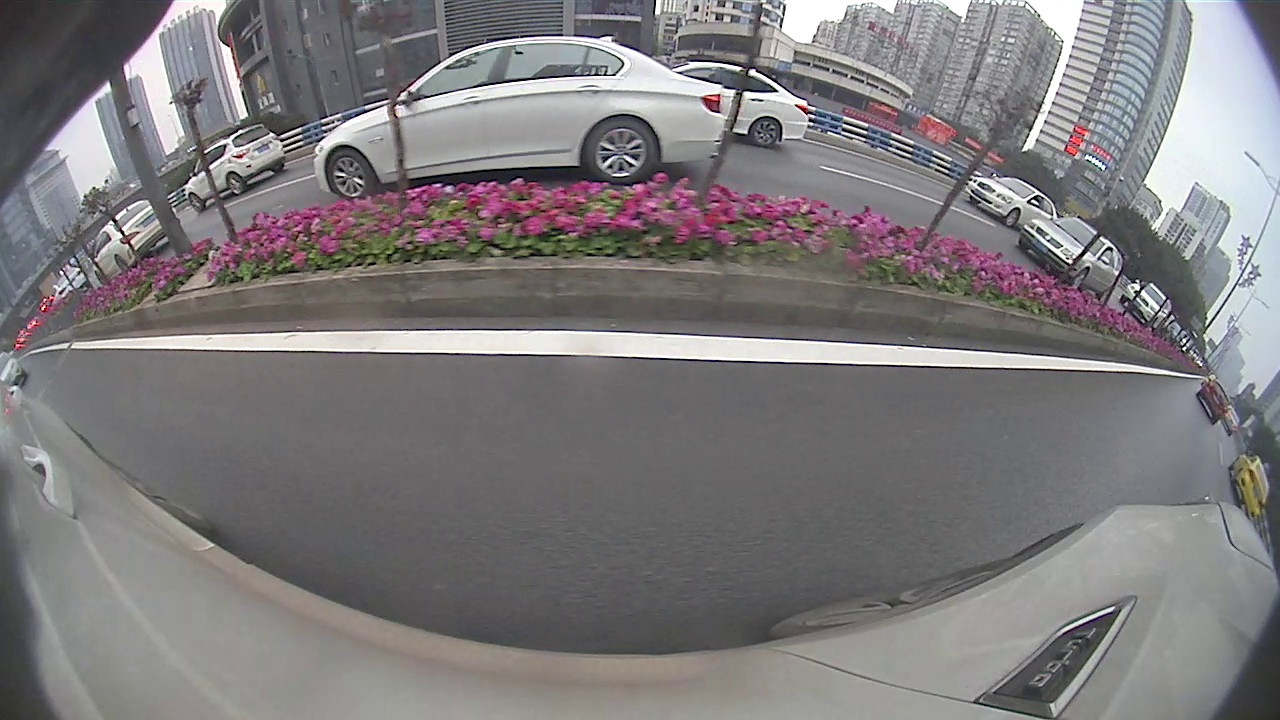car: (311, 36, 732, 200), (660, 57, 809, 147), (186, 124, 286, 213), (1018, 217, 1125, 300), (92, 199, 179, 285), (962, 176, 1057, 227), (1228, 453, 1269, 519), (1121, 281, 1172, 328), (1195, 378, 1232, 424)
front: (327, 146, 376, 198), (188, 190, 204, 209)
rear: (582, 113, 659, 191), (748, 116, 783, 149), (228, 173, 247, 196)
